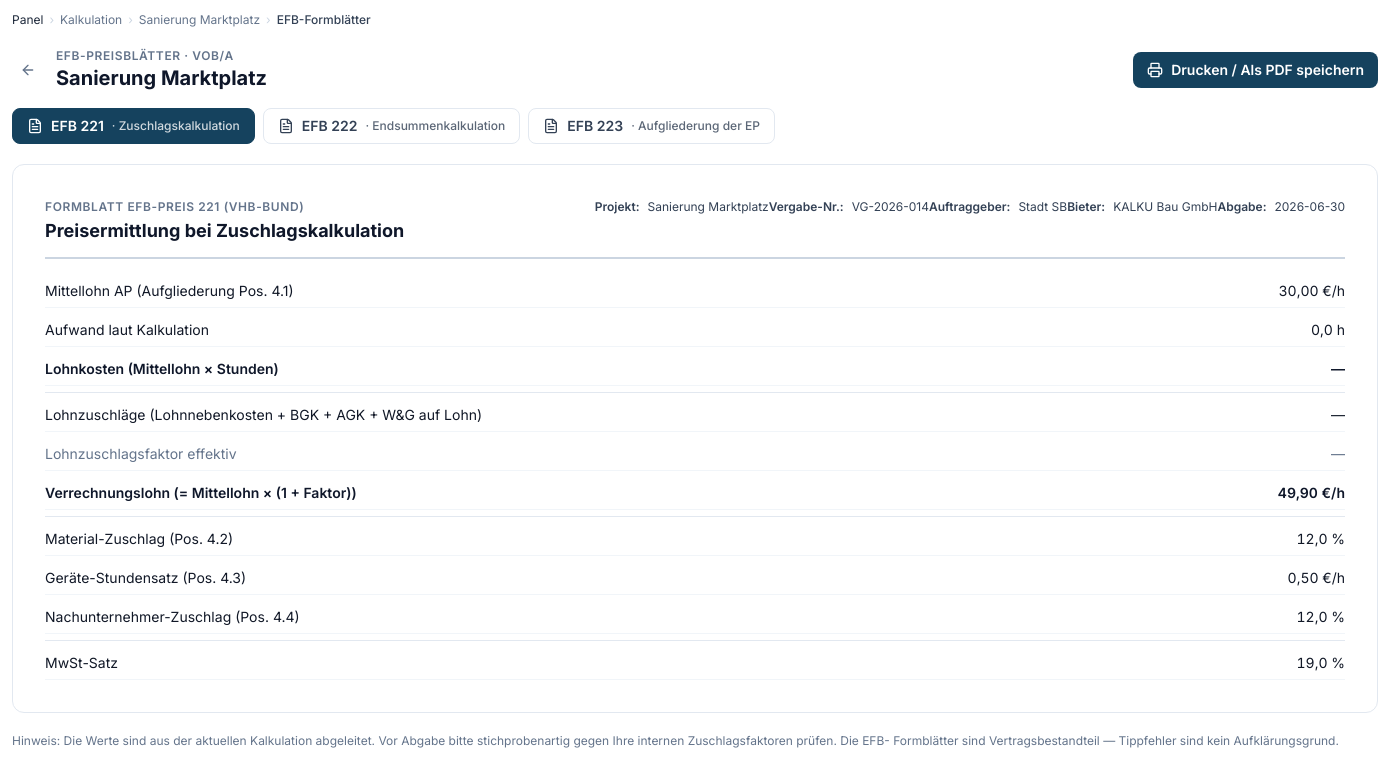
Test: ProjectEfb — EFB 223 EP-Aufgliederung › with 0 positions → "Keine Positionen." row
Step 1. Click the button "EFB 223 · Aufgliederung der EP" → coordinates (652, 126), box [528,108,775,144]
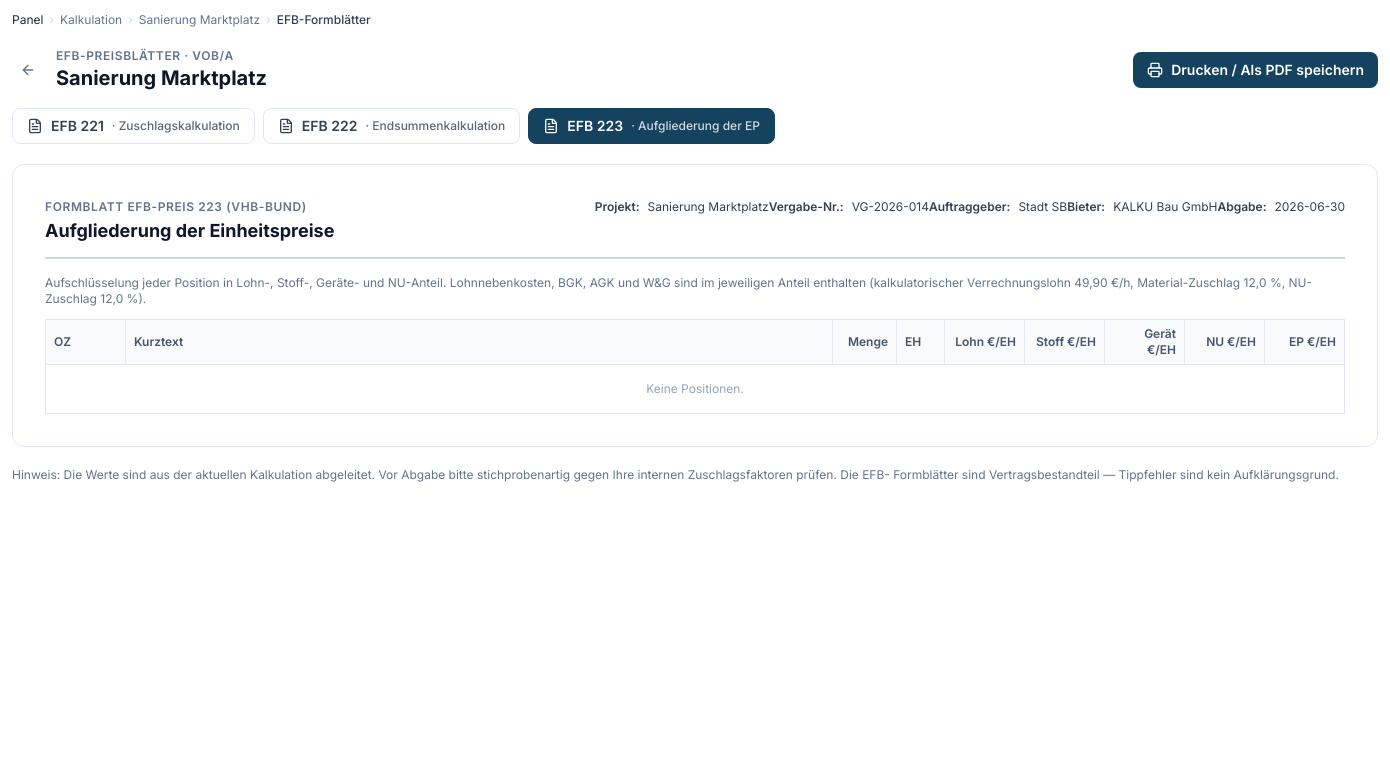
Expected: the text "Keine Positionen." is shown, [46,364,1344,414]
